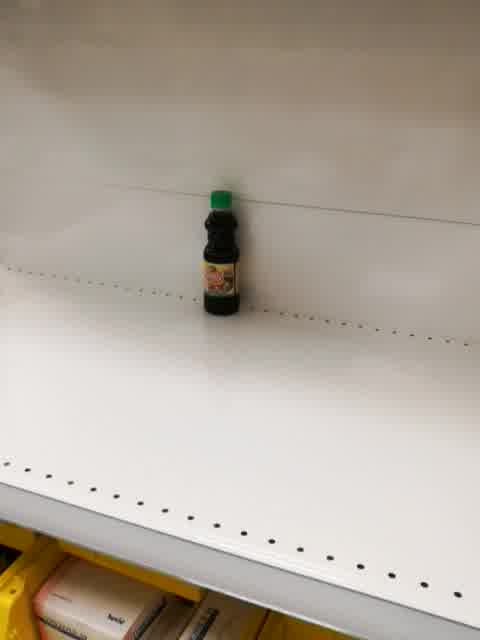cookingoil: (200, 186, 244, 317)
